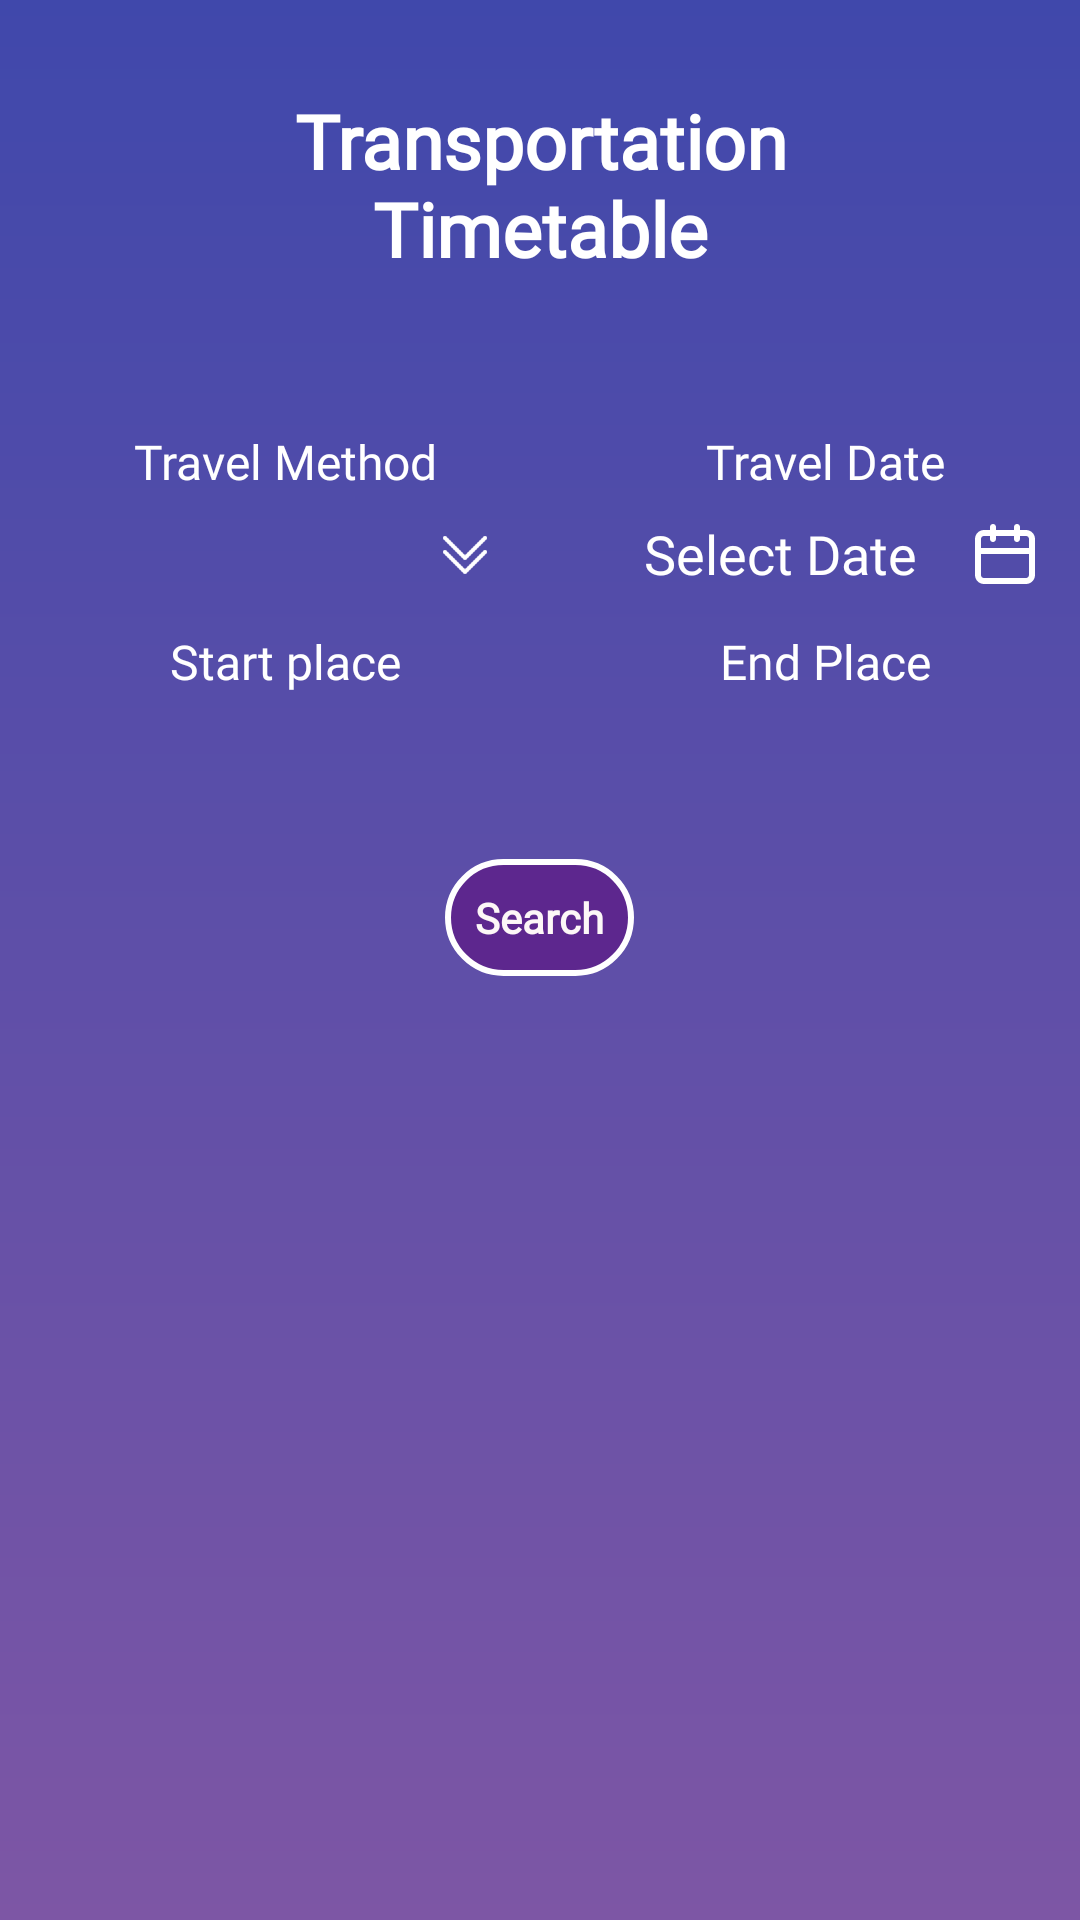

Icons on this 1080px x 1920px Android screen, each with the point to tap as point (x, y):
cus calender: point (1005, 554)
cus doubledown: point (465, 555)
